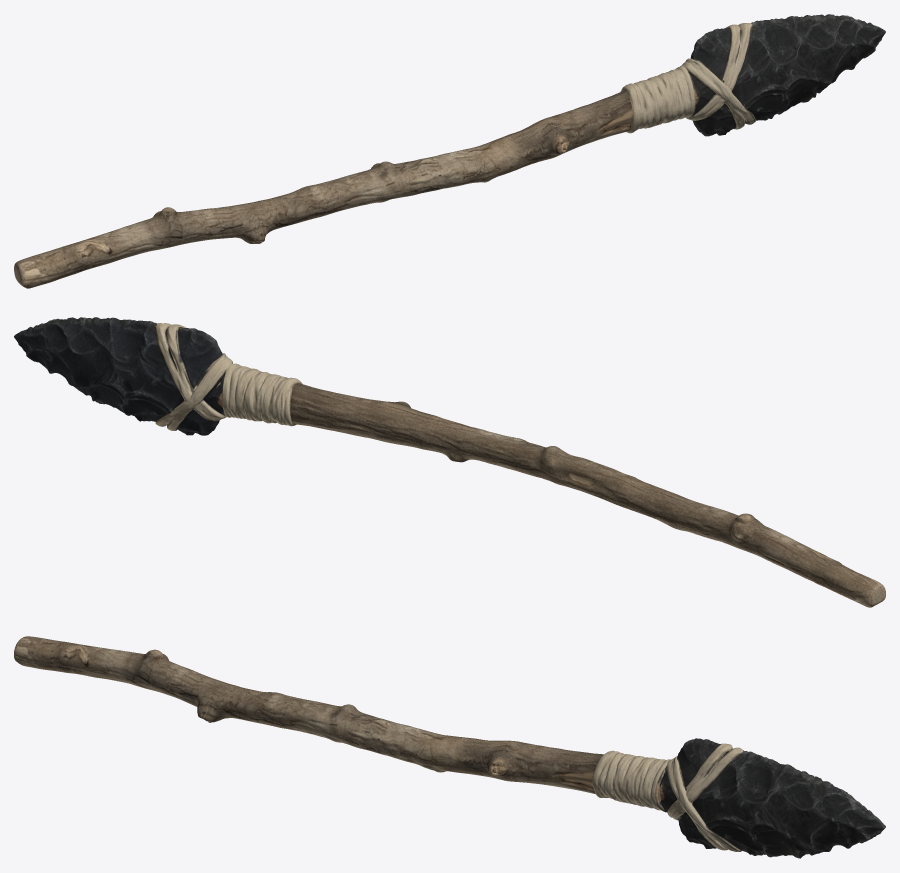
The model's file is Spear.glb.
The picture shows the model from 3 angles, top to bottom: view 1: azimuth 30°, elevation 25°; view 2: azimuth 150°, elevation 25°; view 3: azimuth 330°, elevation 25°; orthographic projection.
Bounding box in the file's own units: 1.9 × 0.224 × 0.1827.
Materials: 1 (1 with a texture image).
